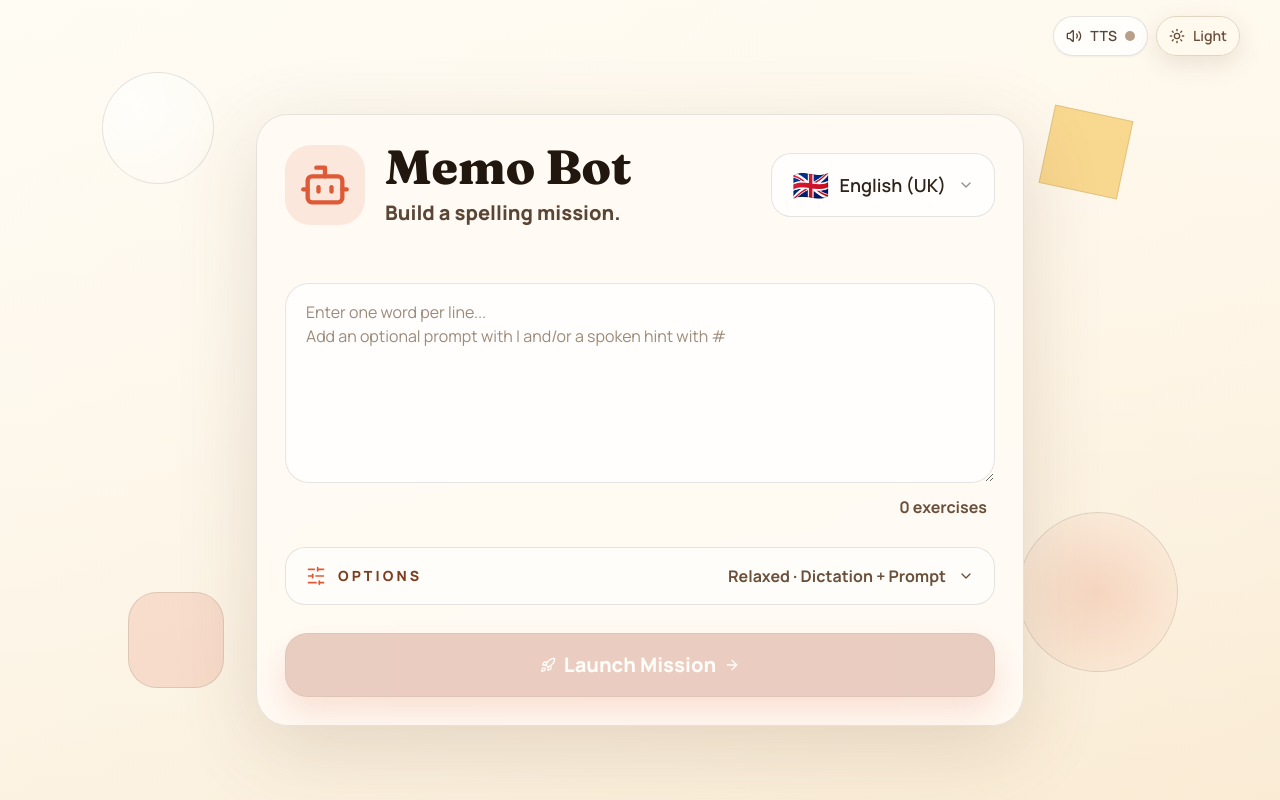
Test case: InputScreen › collapses options by default and summarizes the current choices
The width and height of the screenshot is (1280, 800).
Expected: the element "Difficulty" is not shown
Click the button "Options Relaxed · Dictation + Prompt".
click(380, 576)  # box [286,548,994,604]
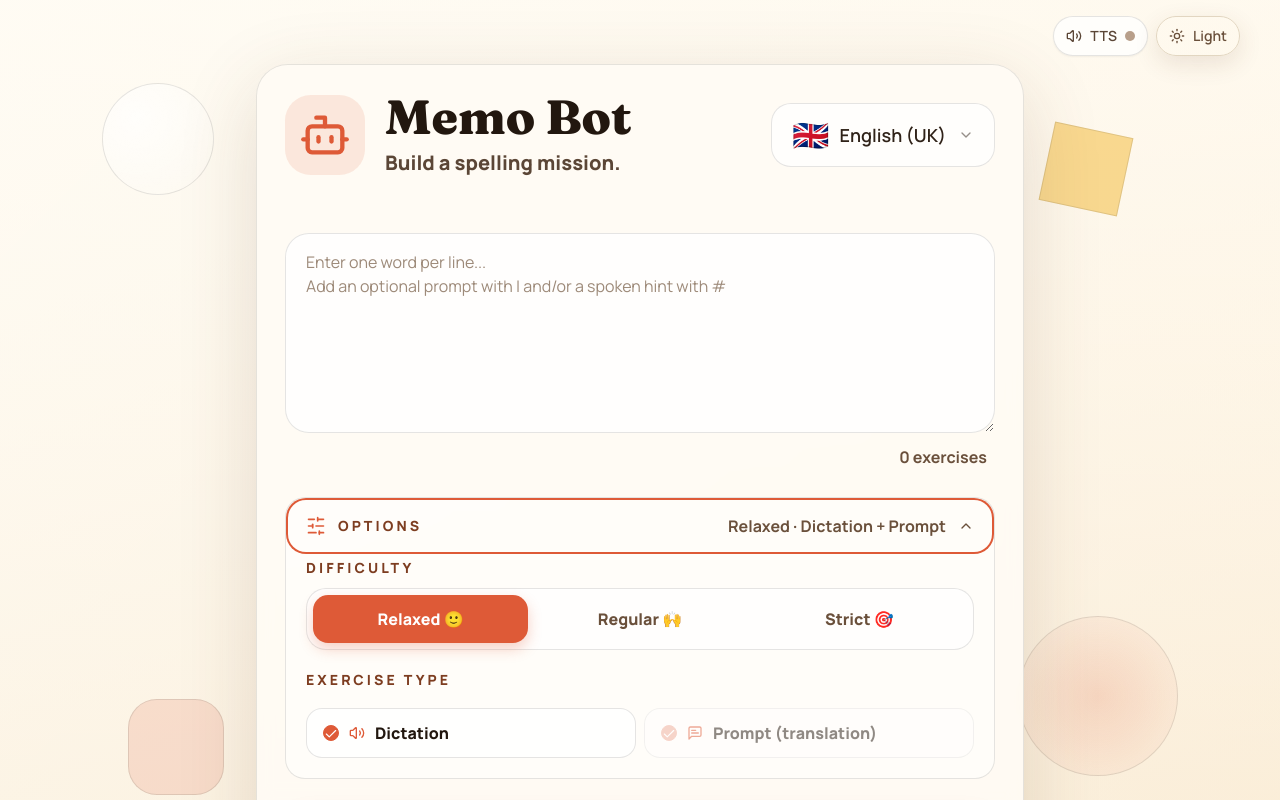
Click the radio button labelled "Strict 🎯".
click(859, 619)  # box [752,595,967,643]
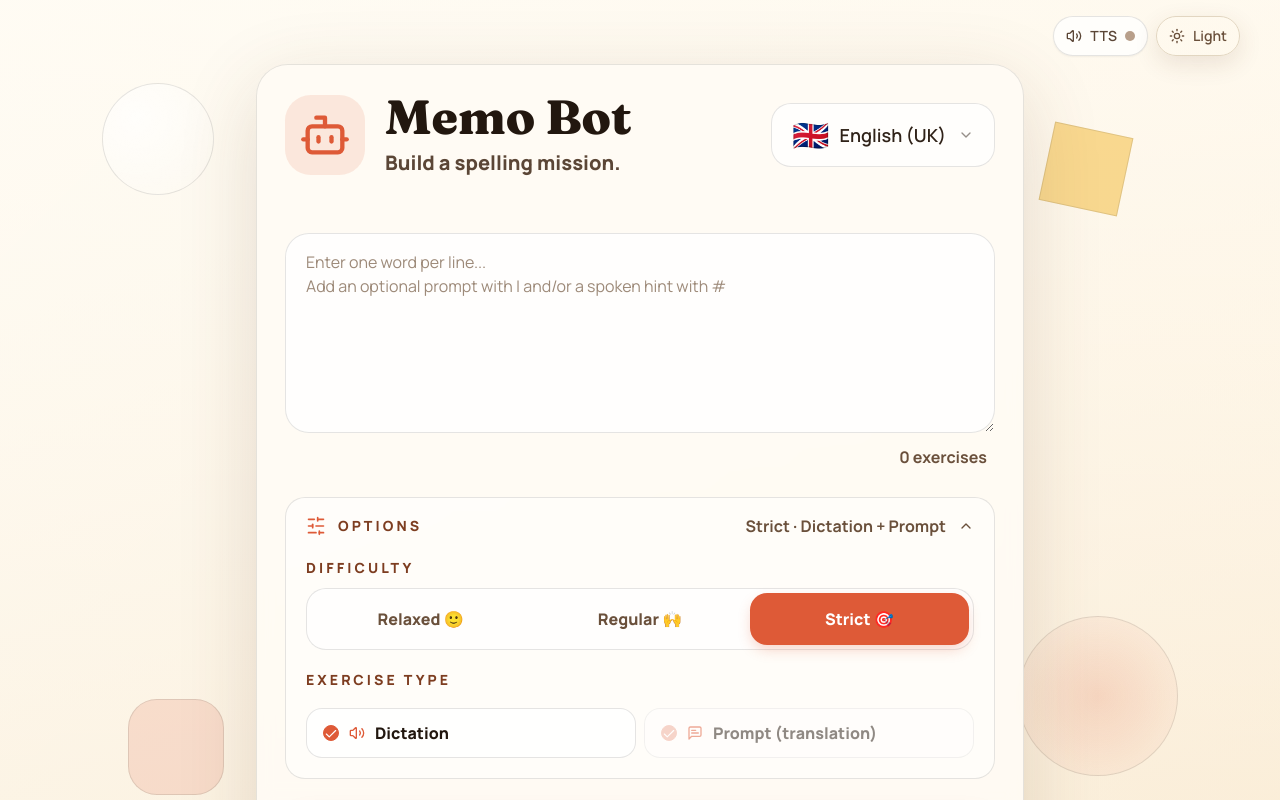
Expected: the button "Options Strict · Dictation + Prompt" is shown, [286,498,994,554]
